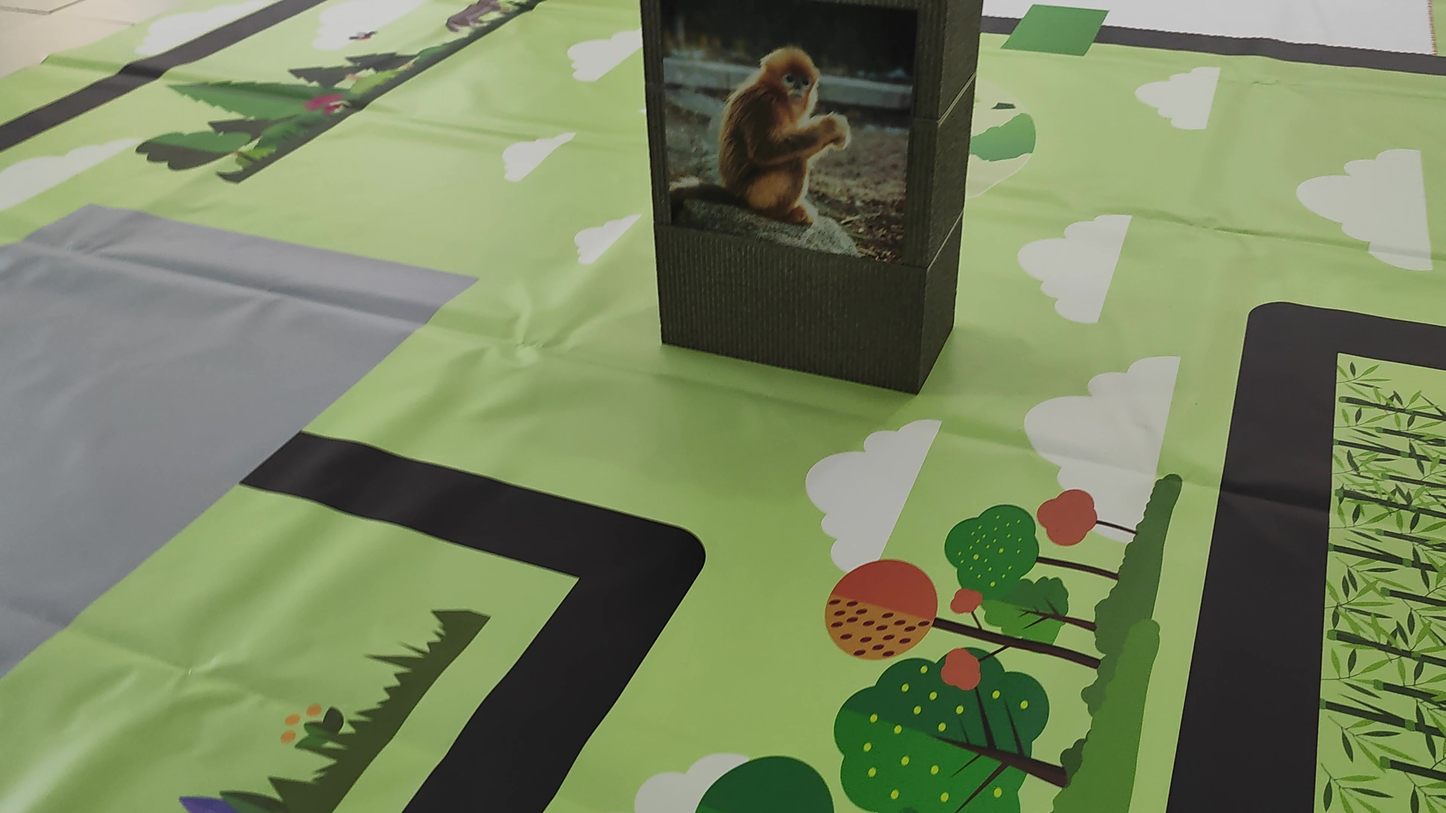monkey: (692, 28, 883, 245)
